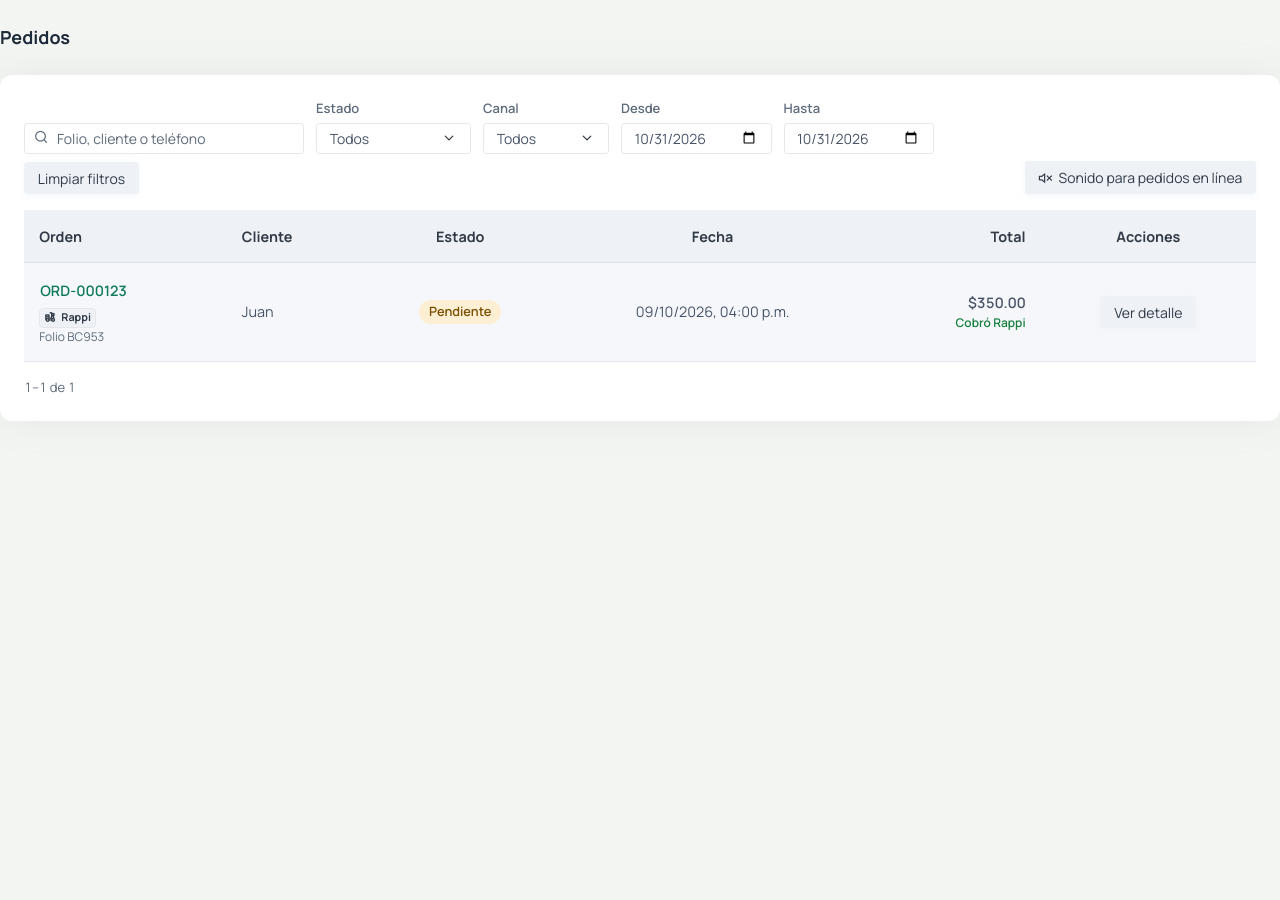
OrdersList › keeps the long id saved though reading the order again fails
Step 1. Click the button "ORD-000123" → (83, 291), box x1=39 y1=279 x2=128 y2=302
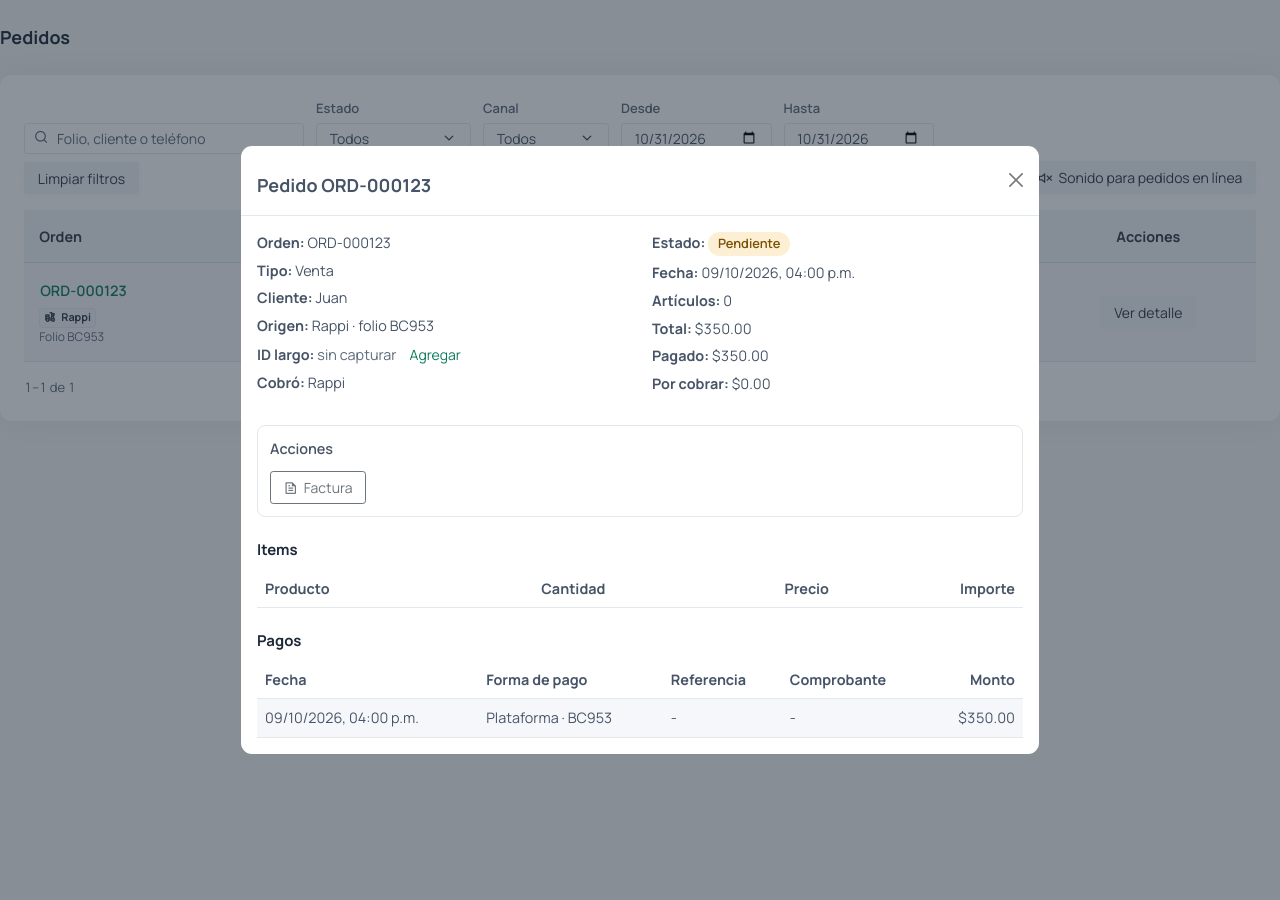
Step 2. Click the button with aria-label "Agregar el ID largo del pedido ORD-000123" → (435, 354), box x1=408 y1=343 x2=462 y2=366
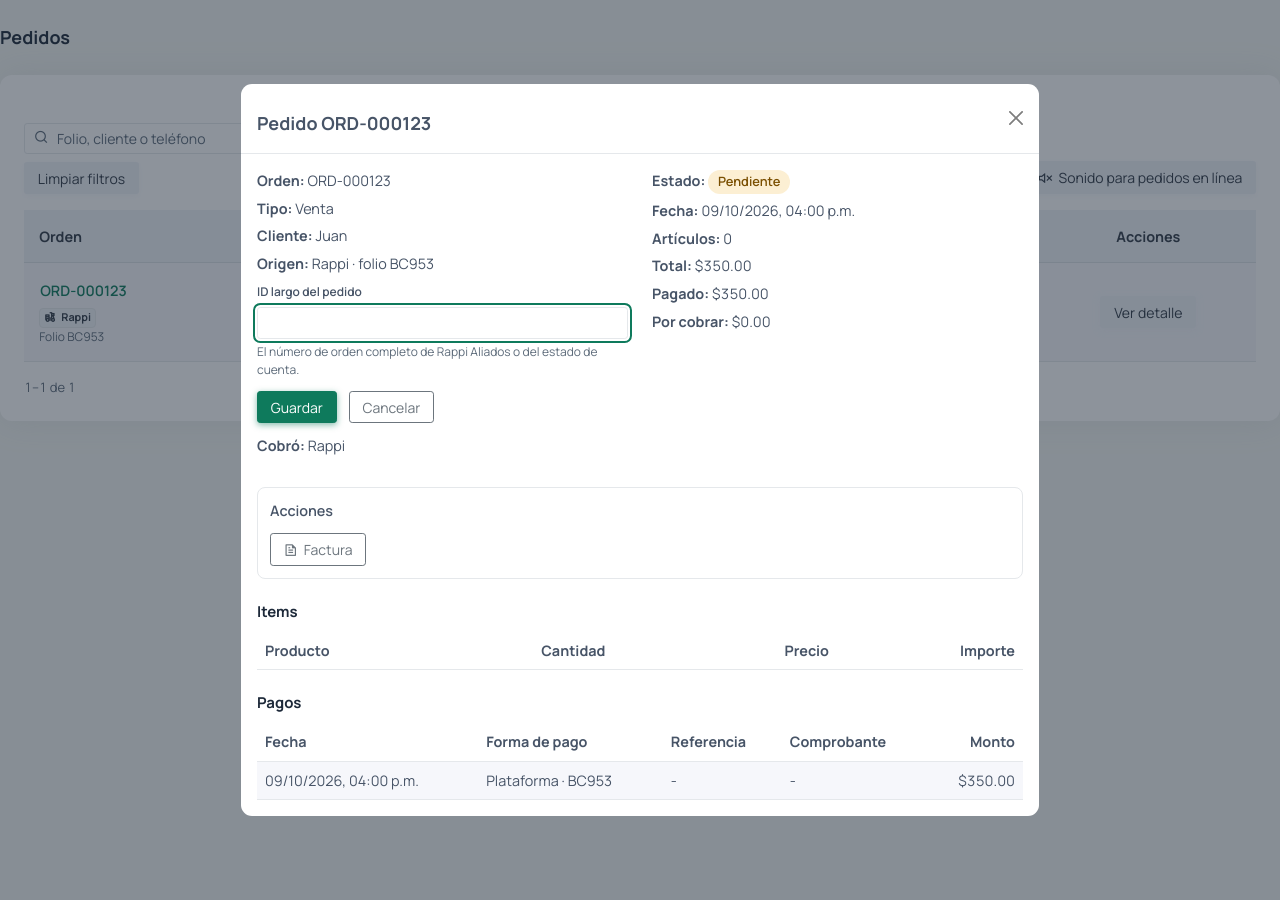
Step 3. Type "4810373920" into the field labelled "ID largo del pedido" → (442, 323), box x1=257 y1=307 x2=628 y2=339
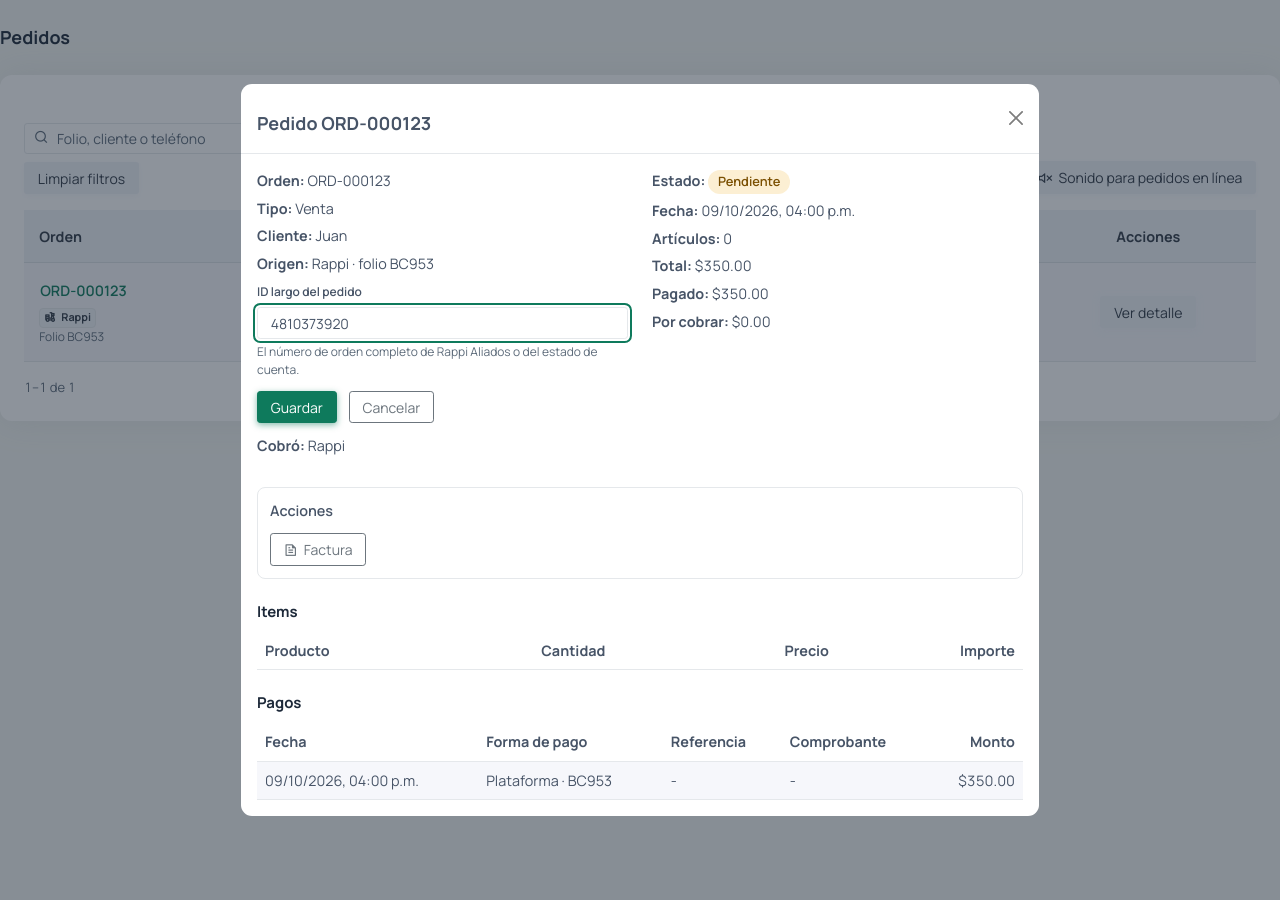
Step 4. Click the button "Guardar" → (297, 407), box x1=257 y1=391 x2=337 y2=423
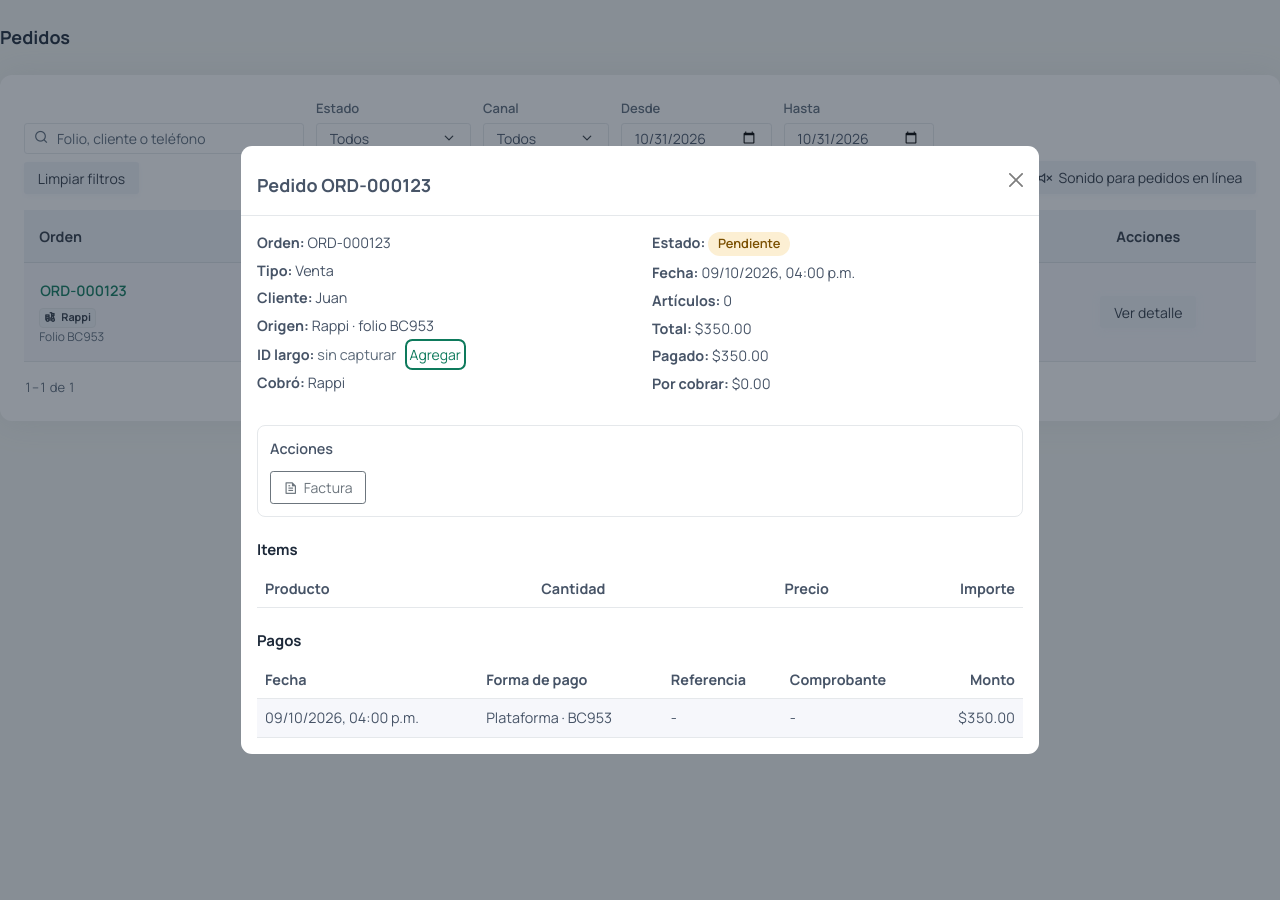
Now the label labelled "ID largo del pedido" is gone
